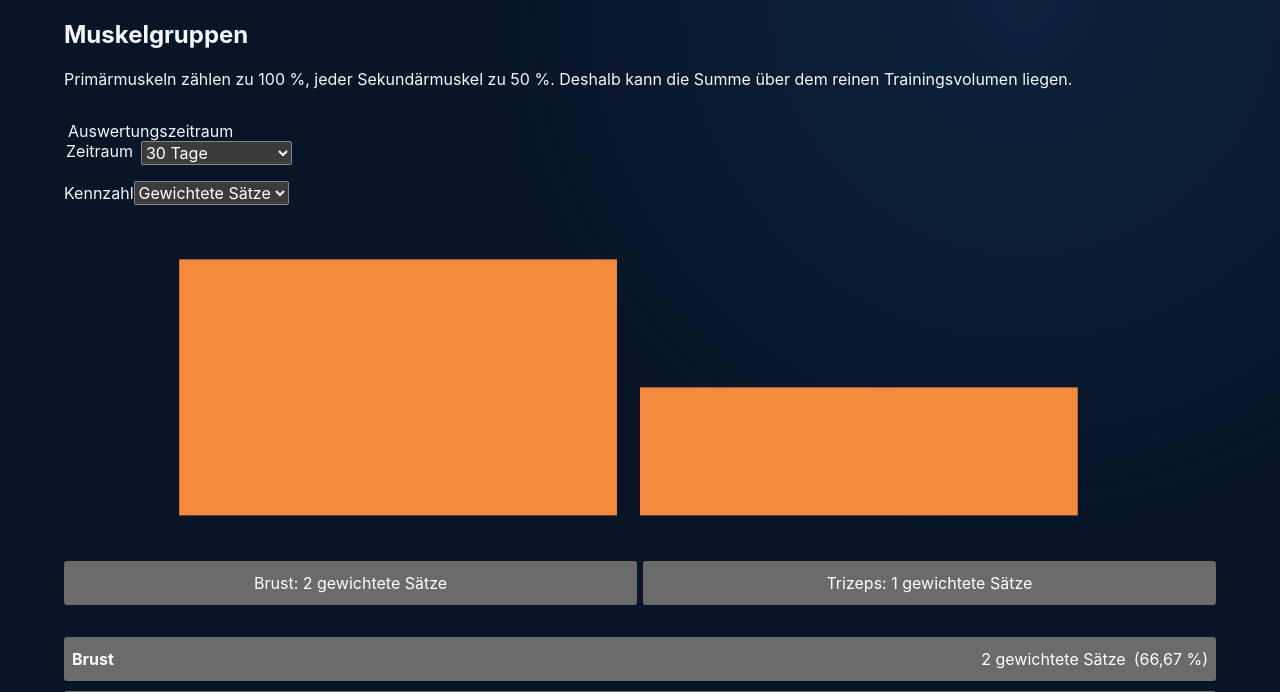
Test case: MuscleGroupAnalyticsPage › persists the metric and opens exercise contributions with analysis links
Select "Volumen" in the dropdown labelled "Kennzahl": (211, 193) x1=134 y1=181 x2=288 y2=205
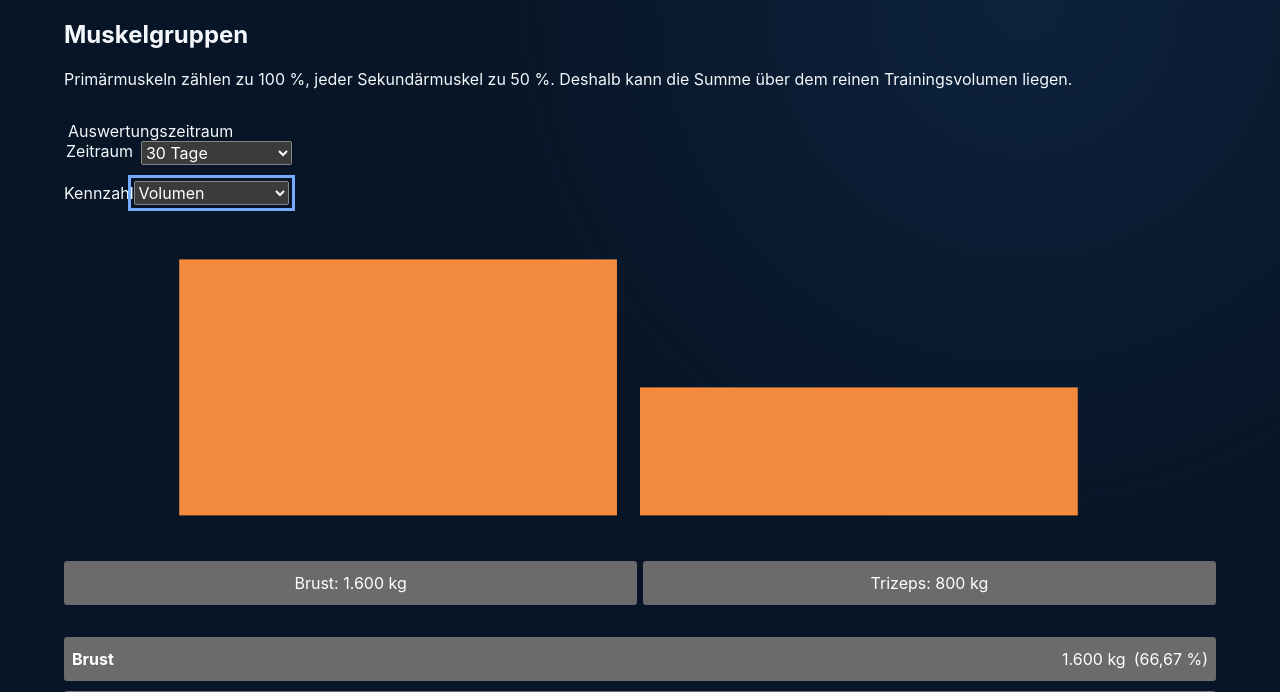
Expected: the picture named "Volumen nach Muskelgruppe" is shown, x1=64 y1=221 x2=1216 y2=541
Click the button "Brust: 1.600 kg": (351, 583) x1=64 y1=561 x2=637 y2=605
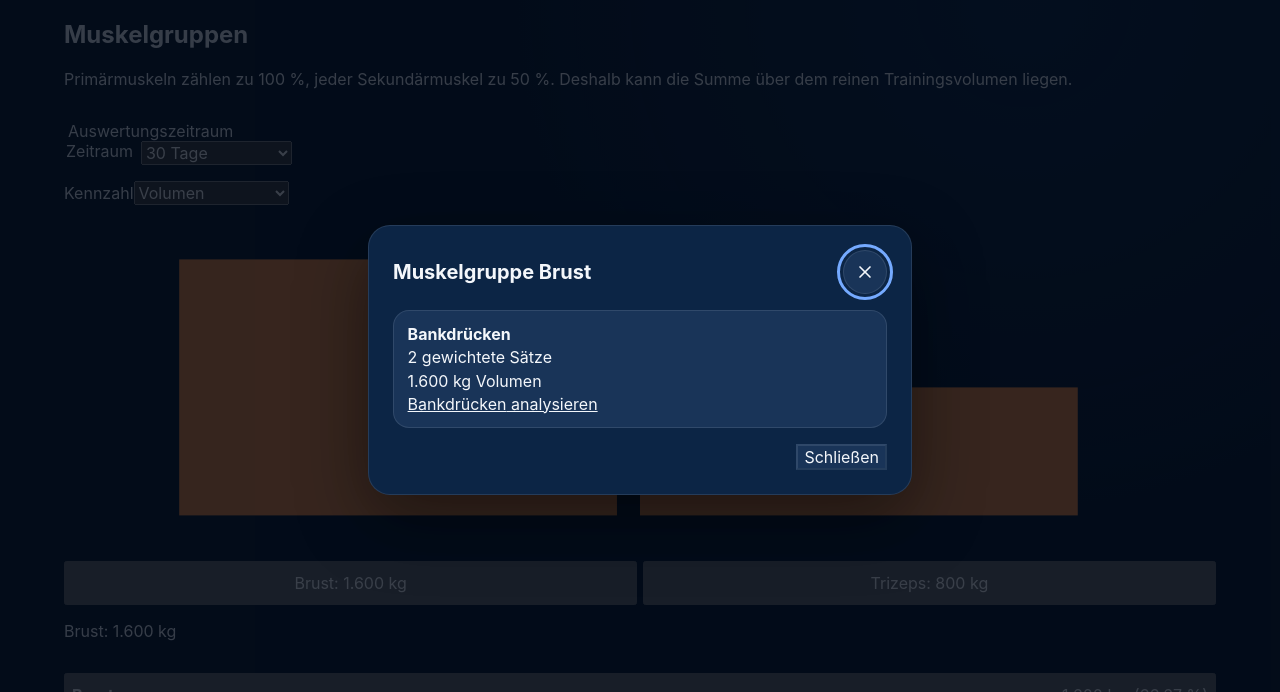
Expected: the text "Bankdrücken" is shown, x1=408 y1=324 x2=511 y2=344
Expected: the text "2 gewichtete Sätze" is shown, x1=408 y1=347 x2=552 y2=367
